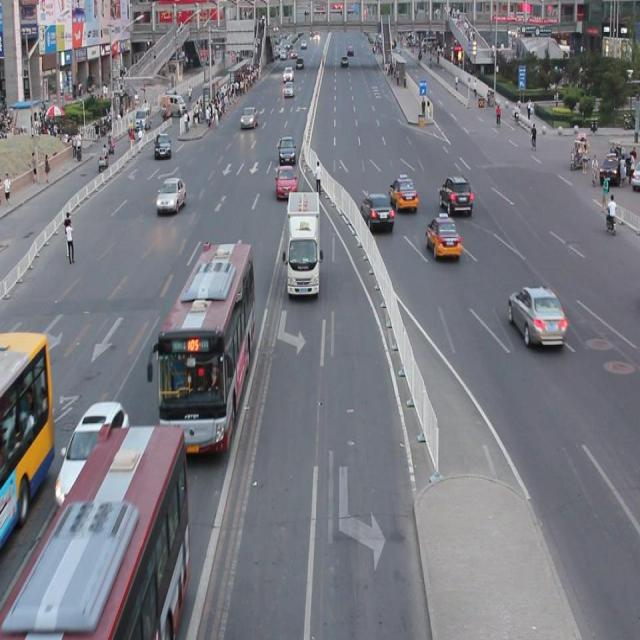bus: (282, 191, 322, 295)
car: (56, 402, 128, 508), (508, 286, 566, 349), (424, 215, 460, 256), (360, 193, 393, 230), (438, 177, 471, 213), (156, 177, 187, 213), (388, 175, 418, 211), (274, 166, 296, 199), (278, 135, 294, 162)
van: (0, 422, 188, 640), (149, 240, 255, 451), (1, 330, 54, 542)
